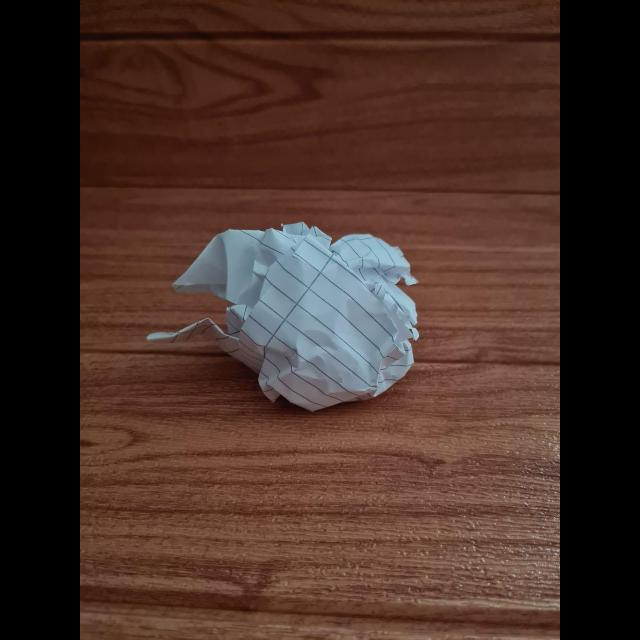scrap_paper: (176, 227, 427, 409)
